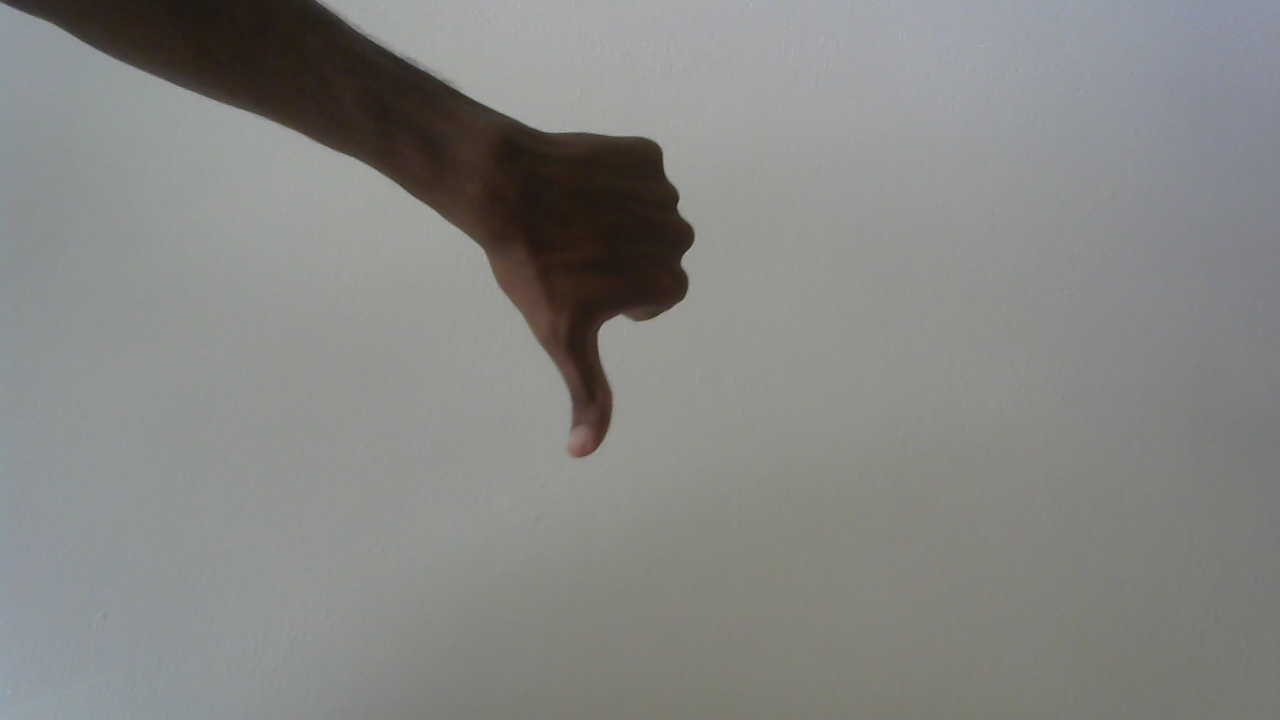thumbsdown: (485, 80, 709, 465)
